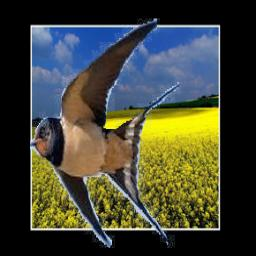Swallow: (31, 18, 182, 248)
